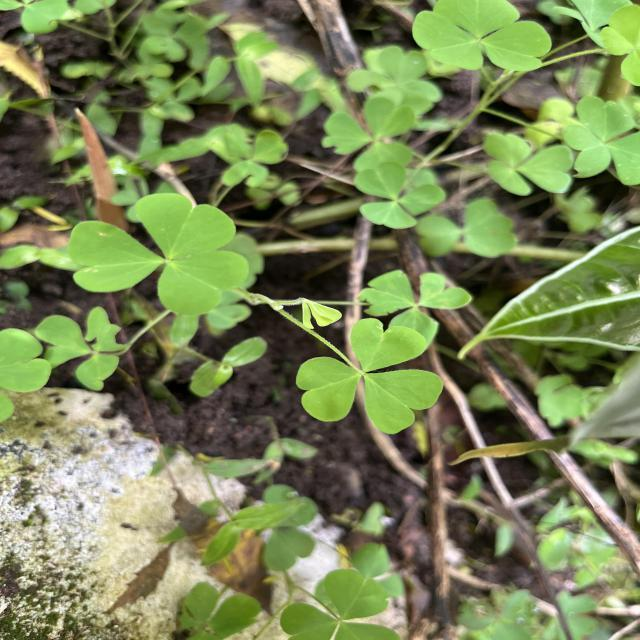Oxalis corniculata: (66, 190, 252, 317), (295, 316, 446, 436), (410, 0, 554, 75), (352, 160, 449, 230), (483, 130, 576, 197)
